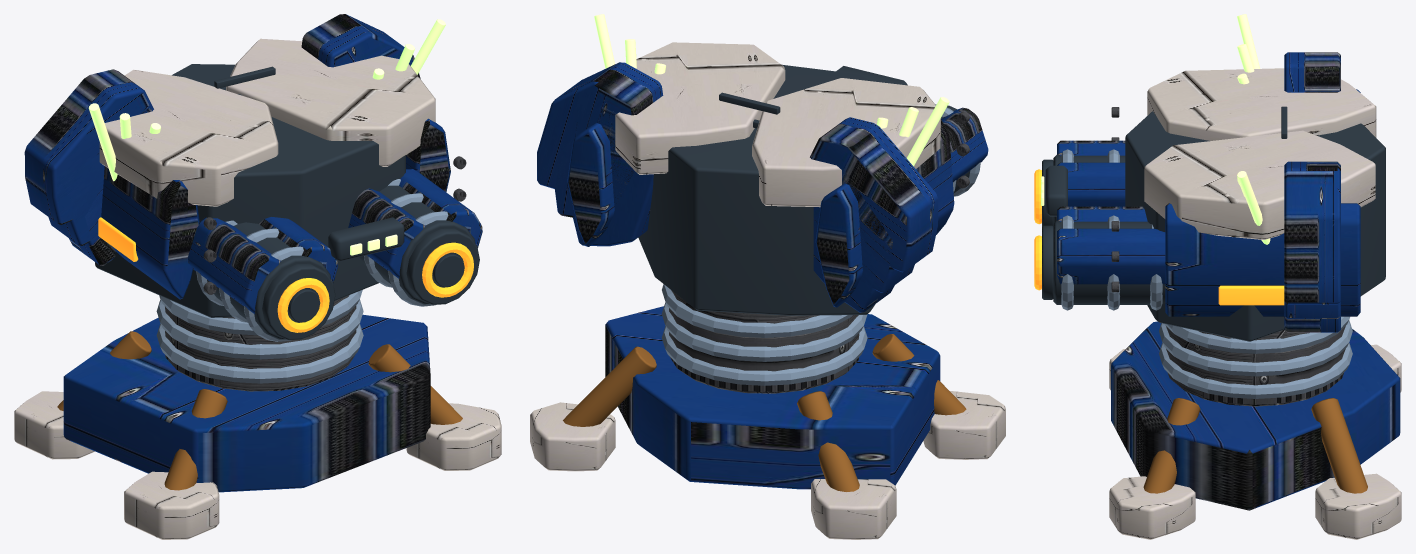
File: sector_02_3.glb
The picture shows the model from 3 angles, left to right: view 1: azimuth 30°, elevation 25°; view 2: azimuth 150°, elevation 25°; view 3: azimuth 270°, elevation 25°; orthographic projection. The views are drawn at different scales.
Parts seen in each view (by area): view 1: Turret hex anchor, Splayed planted foot, Sloped rotating gun mantle, Turntable bearing, Rotating actuator, Anchoring hydraulic, Muzzle lens ring, Luminous sap channel; view 2: Turret hex anchor, Splayed planted foot, Sloped rotating gun mantle, Turntable bearing, Anchoring hydraulic, Rotating actuator, Luminous sap channel; view 3: Turret hex anchor, Splayed planted foot, Sloped rotating gun mantle, Turntable bearing, Rotating actuator, Anchoring hydraulic, Muzzle lens ring, Luminous sap channel.
Part boxes in pixels (x1,y1,x2,y2): Turret hex anchor: (24, 14, 482, 492); Splayed planted foot: (14, 38, 501, 539); Sloped rotating gun mantle: (95, 64, 479, 339); Turntable bearing: (156, 179, 448, 383); Rotating actuator: (165, 156, 466, 391); Anchoring hydraulic: (57, 331, 462, 490); Muzzle lens ring: (98, 217, 473, 332); Luminous sap channel: (88, 19, 445, 255); Turret hex anchor: (537, 62, 988, 489); Splayed planted foot: (530, 42, 1005, 539); Sloped rotating gun mantle: (638, 64, 970, 315); Turntable bearing: (662, 104, 980, 385); Anchoring hydraulic: (563, 334, 966, 491); Rotating actuator: (669, 111, 969, 393); Luminous sap channel: (594, 14, 949, 166); Turret hex anchor: (1057, 52, 1400, 510); Splayed planted foot: (1109, 68, 1401, 539); Sloped rotating gun mantle: (1042, 106, 1385, 341); Turntable bearing: (1061, 149, 1352, 398); Rotating actuator: (1111, 107, 1345, 406); Anchoring hydraulic: (1143, 398, 1367, 493); Muzzle lens ring: (1034, 169, 1284, 305); Luminous sap channel: (1041, 14, 1270, 244).
Bounding box in the file's own units: 1.15 × 1.14 × 1.03.
Materials: 8 (3 with a texture image).
